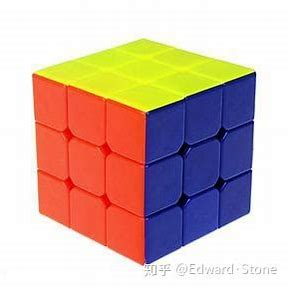cube: (19, 36, 267, 265)
